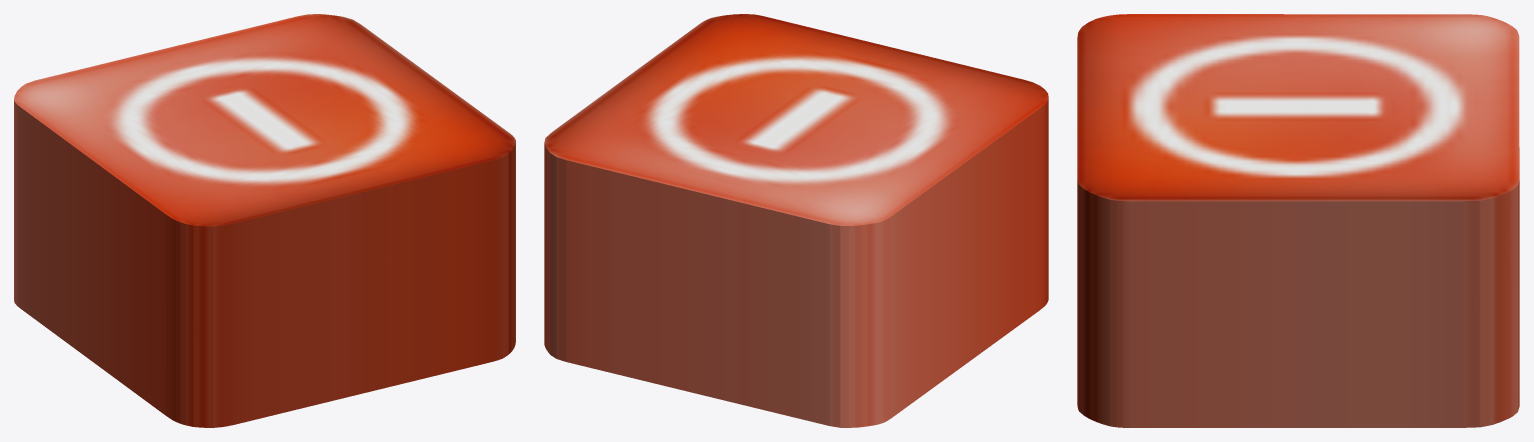
Rendered from uitschakelen.FBX.
3 renders of one model, left to right at view 1: azimuth 30°, elevation 25°; view 2: azimuth 150°, elevation 25°; view 3: azimuth 270°, elevation 25°, orthographic. The views are drawn at different scales.
Parts seen in each view (by area): view 1: Shape1; view 2: Shape1; view 3: Shape1.
Part boxes in pixels (bbox=[...]): Shape1: bbox=[14, 14, 515, 427]; Shape1: bbox=[544, 14, 1048, 427]; Shape1: bbox=[1077, 14, 1519, 427].
Size of the model in its own units: 125 by 70.68 by 125.
